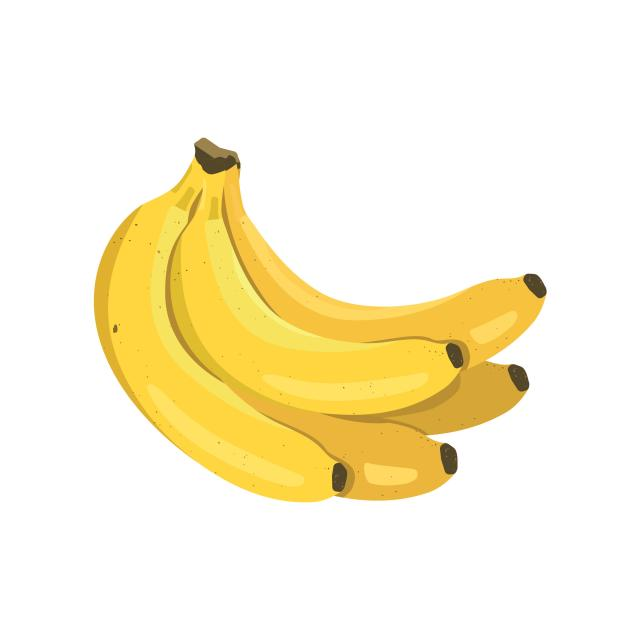Banana: (95, 139, 545, 501)
